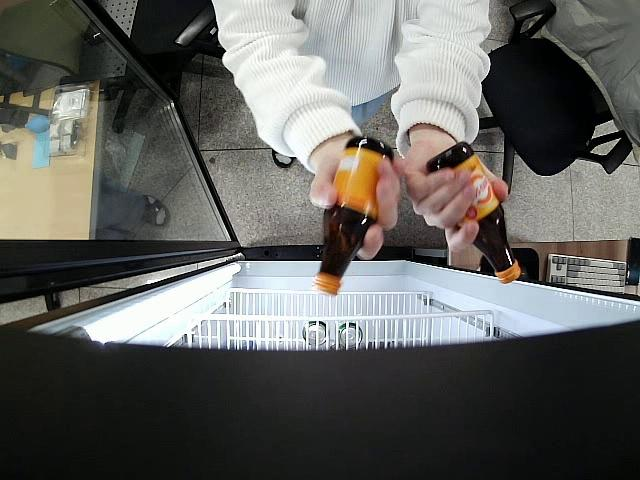00_hand: (405, 142, 509, 253), (309, 147, 403, 261)
17_vita500: (425, 141, 520, 283), (313, 136, 393, 297)
